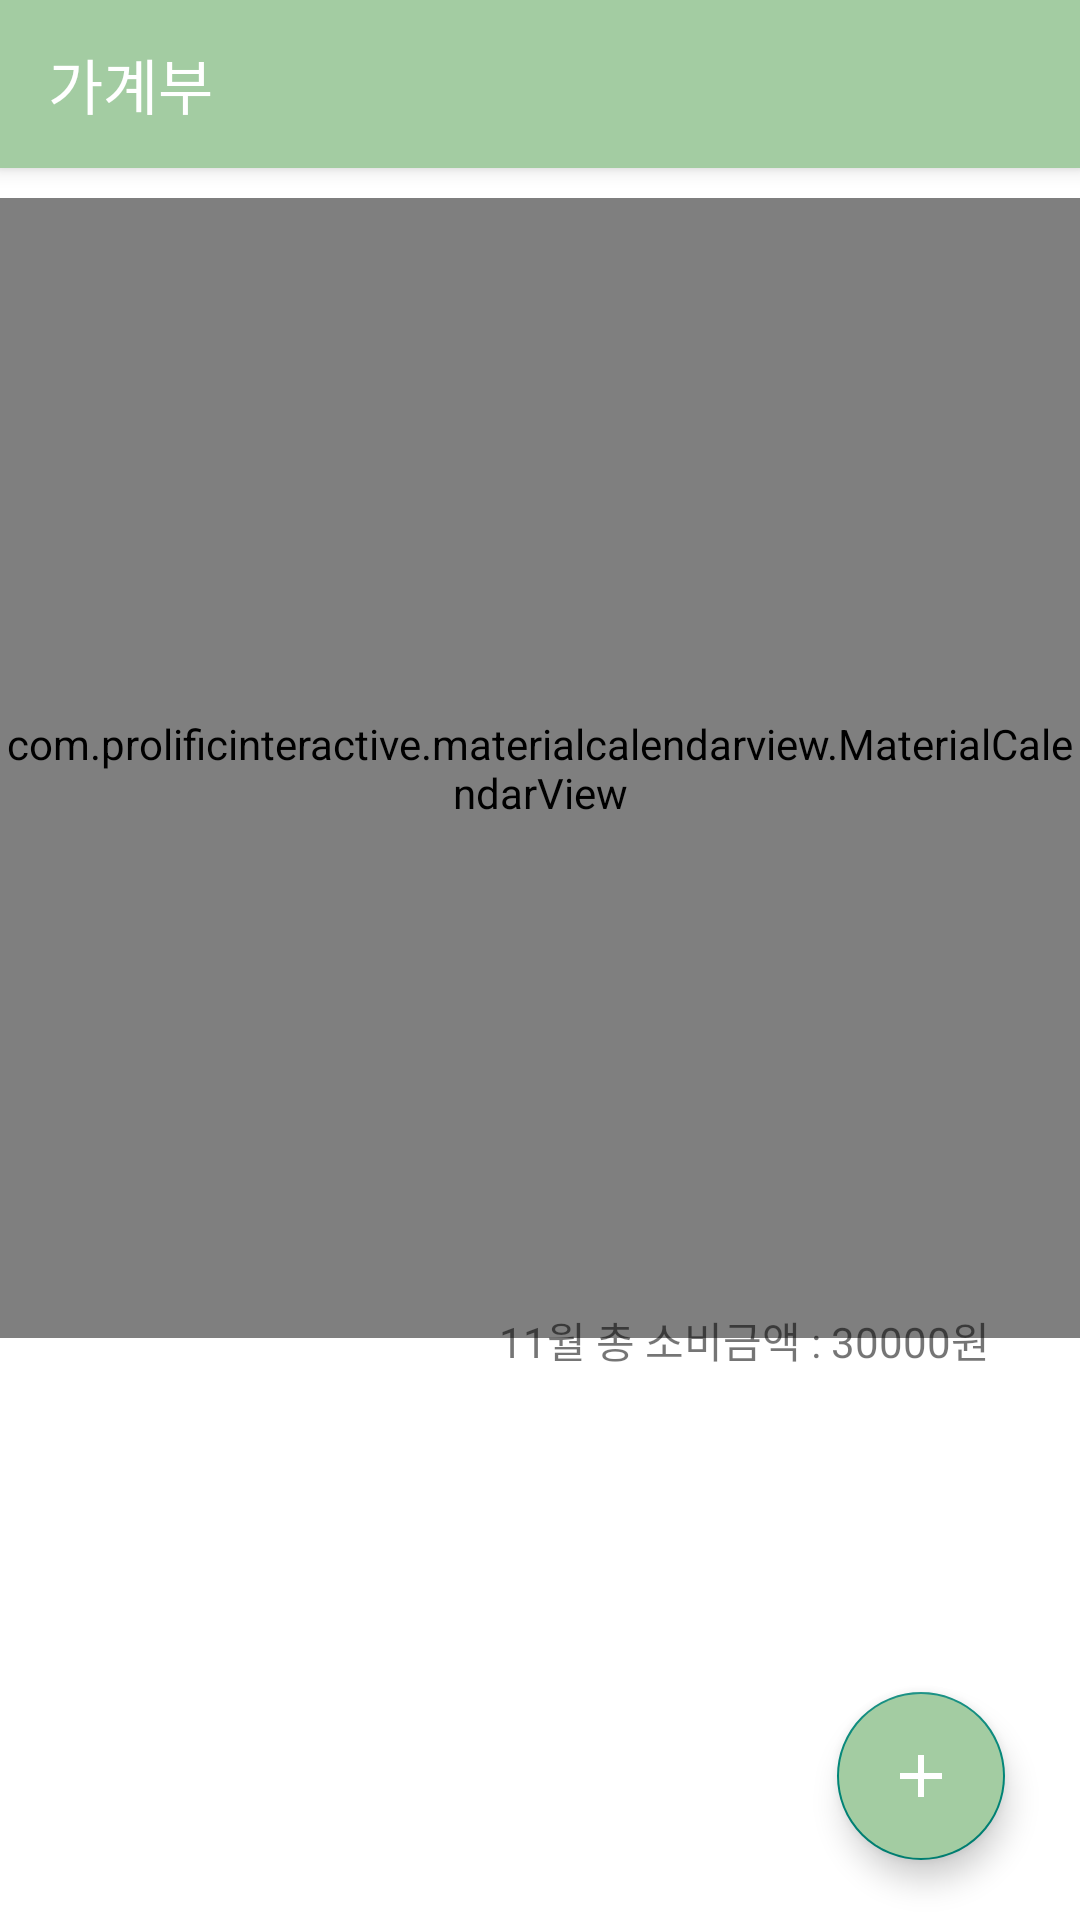

Icons on this 1080×1920 Android screen, each with its box as box=[x1, y1, x2, y2]:
add: box=[837, 1692, 1005, 1860]
